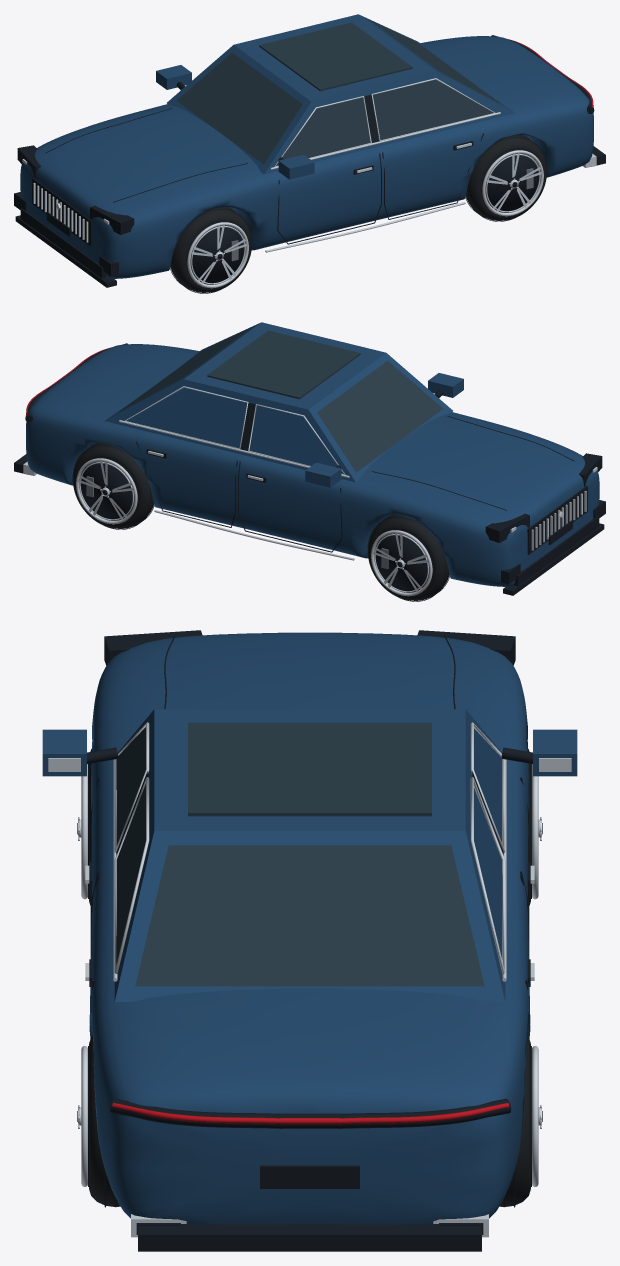
The model's file is car0.glb.
3 views of the same model, one above another, from view 1: azimuth 30°, elevation 25°; view 2: azimuth 150°, elevation 25°; view 3: azimuth 270°, elevation 25° (orthographic). The views are drawn at different scales.
Visible parts, largest first — view 1: Body colour mirror, Front door glass, Flush door handle recess, Four door cabin, Panoramic roof, Front door glass fine surround, Road tire, Twin spoke alloy, Gloss black B pillar; view 2: Body colour mirror, Four door cabin, Flush door handle recess, Front door glass, Panoramic roof, Front door glass fine surround, Road tire, Twin spoke alloy, Gloss black B pillar; view 3: Body colour mirror, Front door glass, Four door cabin, Panoramic roof, Flush door handle recess, Front door glass fine surround, Road tire, Cylinder.003.
Part boxes in pixels (left/top/right/bottom): Body colour mirror: left=20, top=36, right=593, bottom=278; Front door glass: left=176, top=20, right=502, bottom=165; Flush door handle recess: left=14, top=35, right=605, bottom=293; Four door cabin: left=167, top=14, right=515, bottom=174; Panoramic roof: left=259, top=22, right=412, bottom=91; Front door glass fine surround: left=22, top=78, right=596, bottom=288; Road tire: left=170, top=135, right=546, bottom=292; Twin spoke alloy: left=192, top=153, right=541, bottom=283; Gloss black B pillar: left=364, top=94, right=379, bottom=142; Body colour mirror: left=26, top=344, right=599, bottom=586; Four door cabin: left=104, top=322, right=452, bottom=482; Flush door handle recess: left=14, top=343, right=605, bottom=601; Front door glass: left=117, top=328, right=443, bottom=472; Panoramic roof: left=207, top=330, right=360, bottom=399; Front door glass fine surround: left=23, top=386, right=597, bottom=596; Road tire: left=73, top=443, right=449, bottom=600; Twin spoke alloy: left=78, top=461, right=427, bottom=591; Gloss black B pillar: left=240, top=402, right=255, bottom=450; Body colour mirror: left=42, top=632, right=577, bottom=1224; Front door glass: left=116, top=727, right=484, bottom=986; Four door cabin: left=114, top=709, right=505, bottom=1001; Panoramic roof: left=188, top=722, right=431, bottom=816; Flush door handle recess: left=77, top=630, right=542, bottom=1251; Front door glass fine surround: left=48, top=722, right=571, bottom=1237; Road tire: left=89, top=749, right=530, bottom=1206; Cylinder.003: left=112, top=1103, right=509, bottom=1124.
Size of the model in its own units: 5.02 by 1.49 by 2.3.
